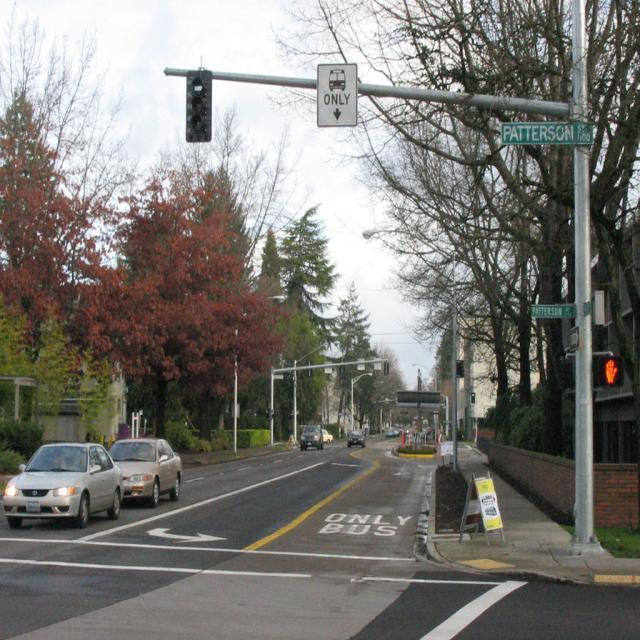traffic light: (182, 61, 215, 141)
